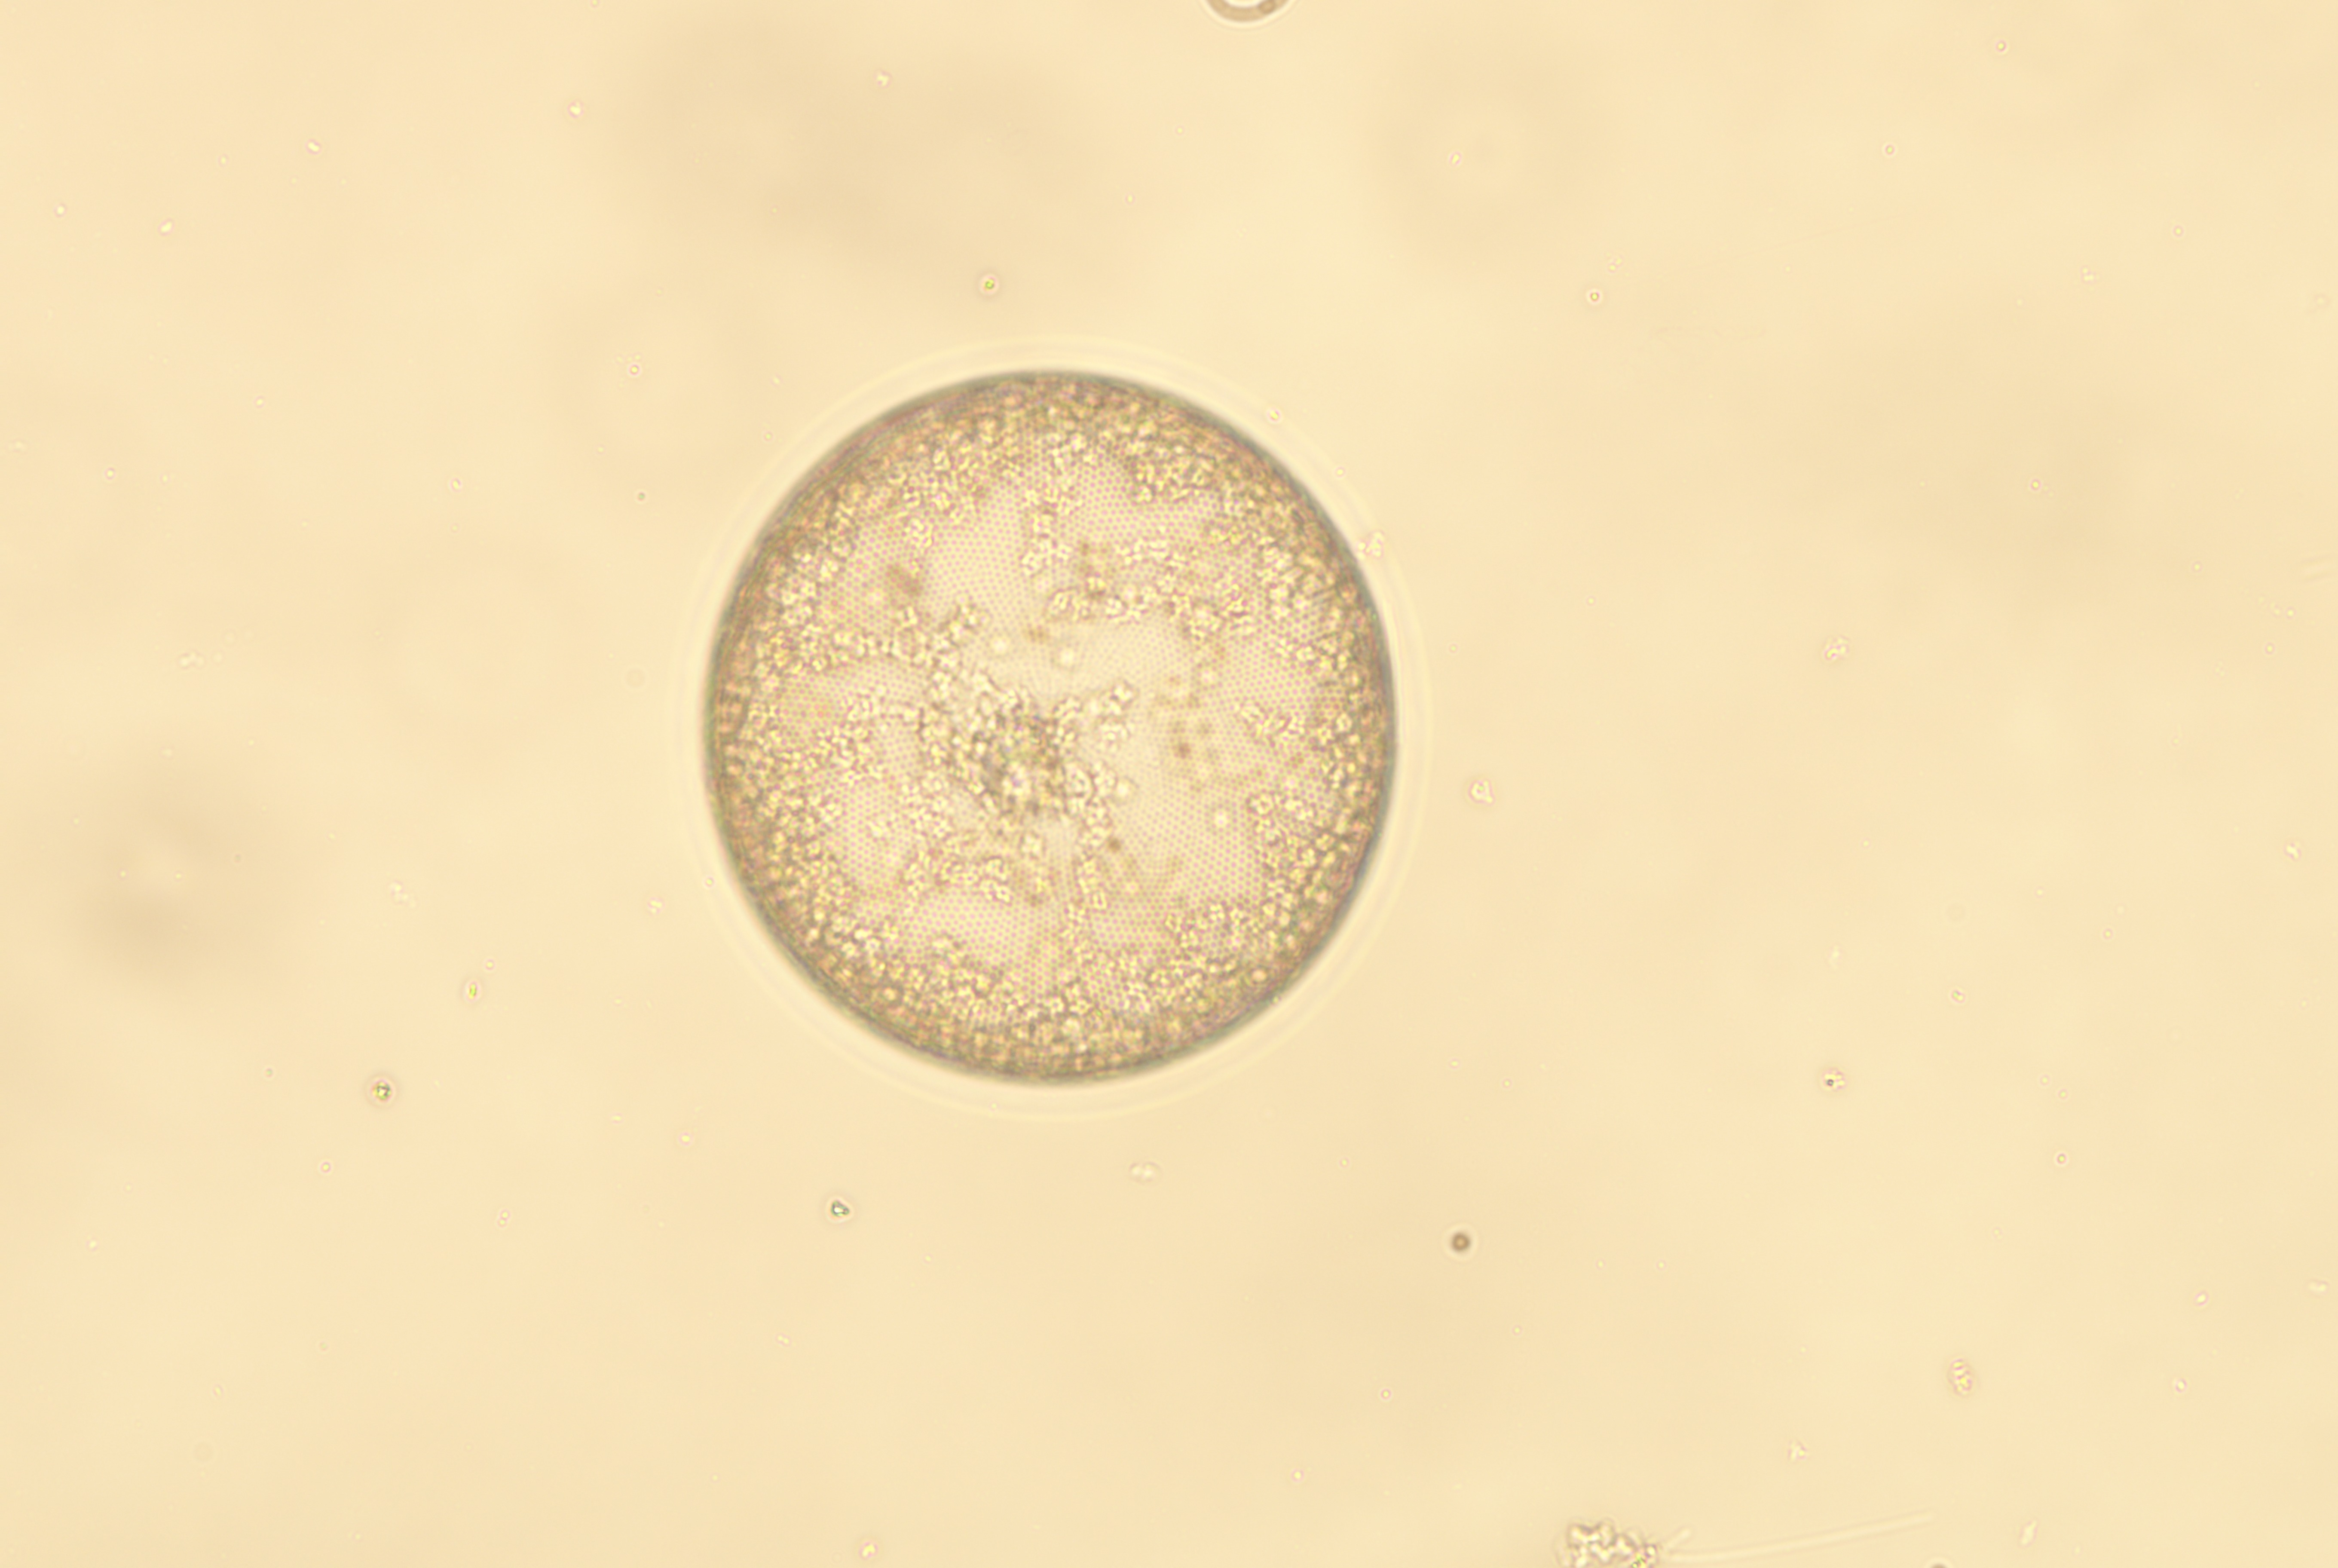coscinodiscus: (700, 364, 1400, 1087)
